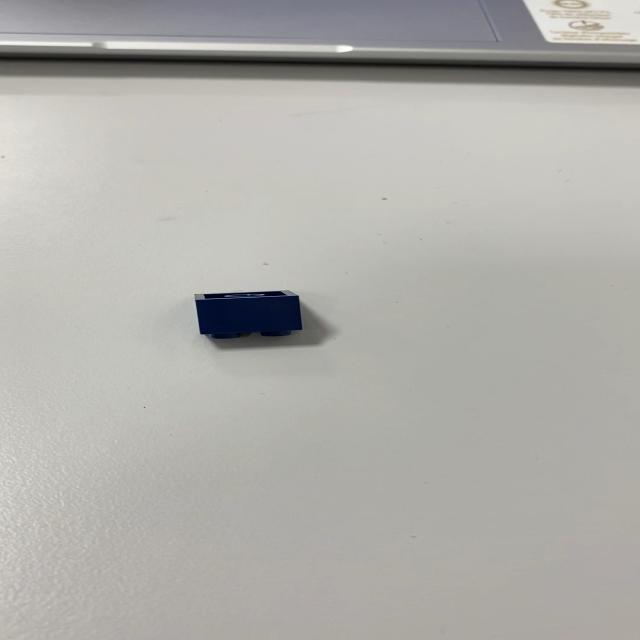P2x2x1: (191, 289, 302, 340)
